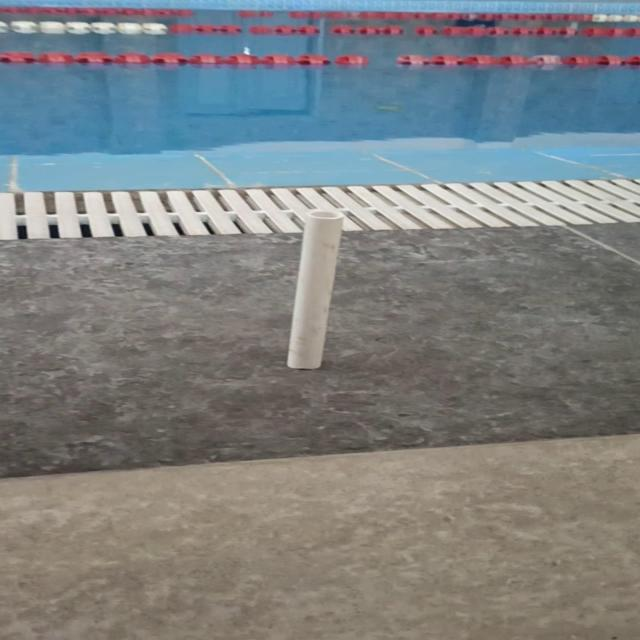Cube: (284, 208, 345, 370)
